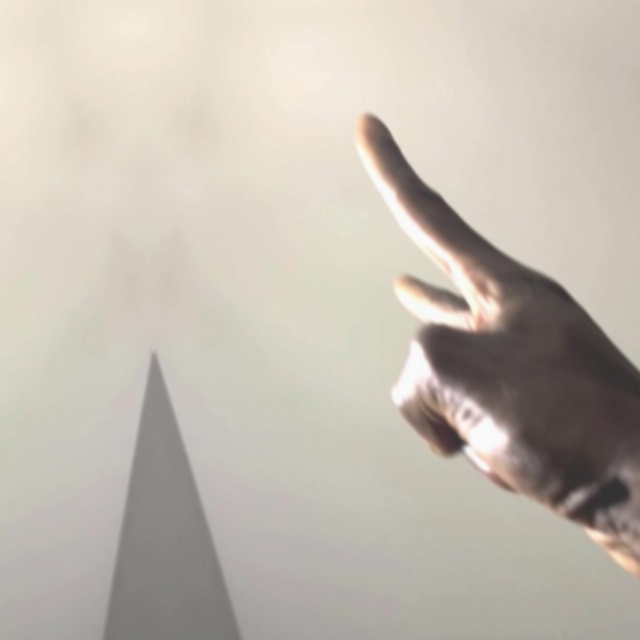Scissors: (0, 121, 41, 640)
